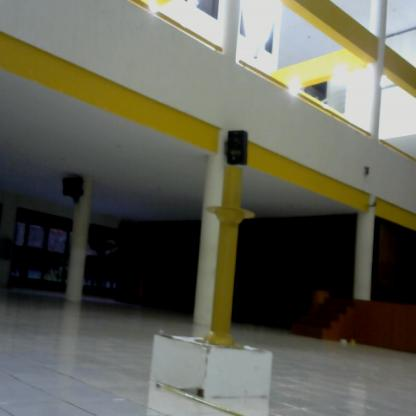pole: (194, 173, 258, 355)
